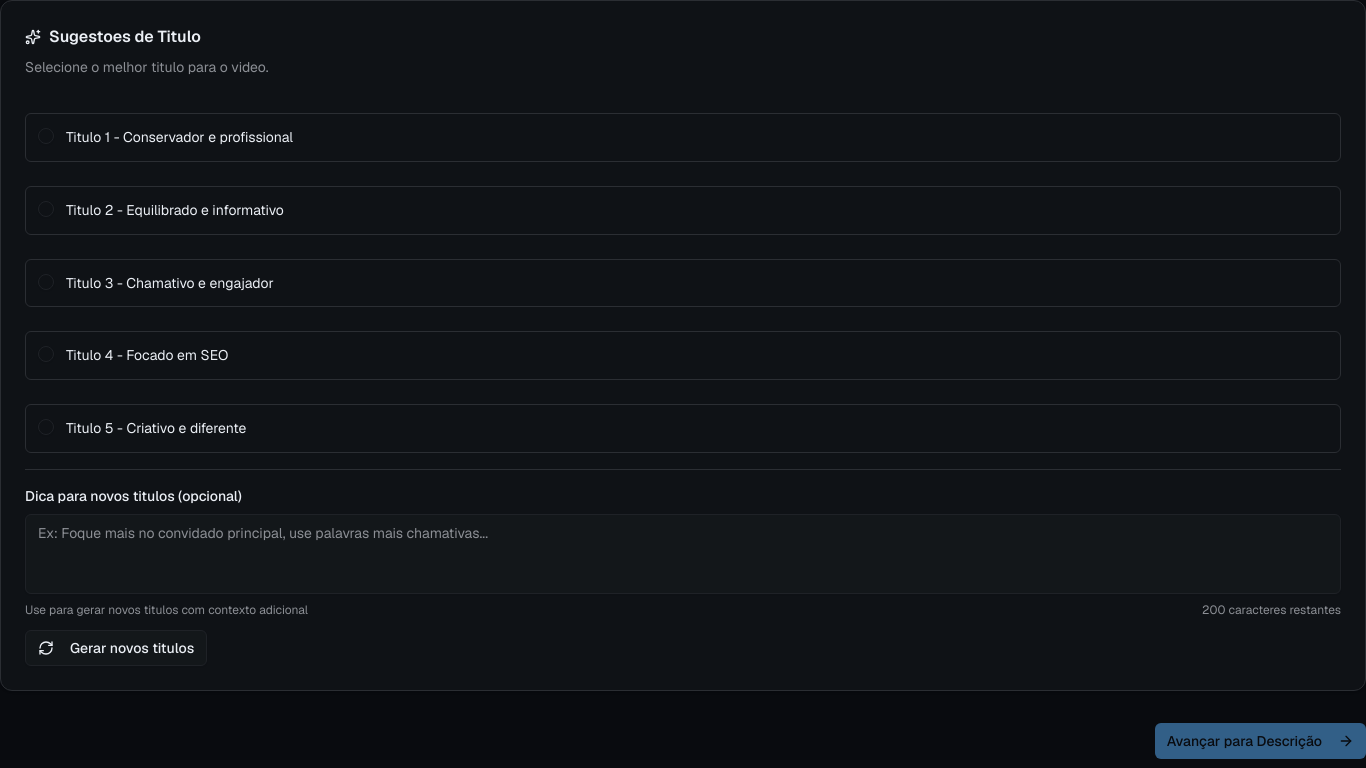
it: Phase5Title › Revalidation › shows additional context in confirmation dialog
# Enter additional context
Replace the text in the text box with placeholder "Foque mais no convidado principal" with "Minha dica especial" at (683, 554), box [25, 514, 1341, 594]
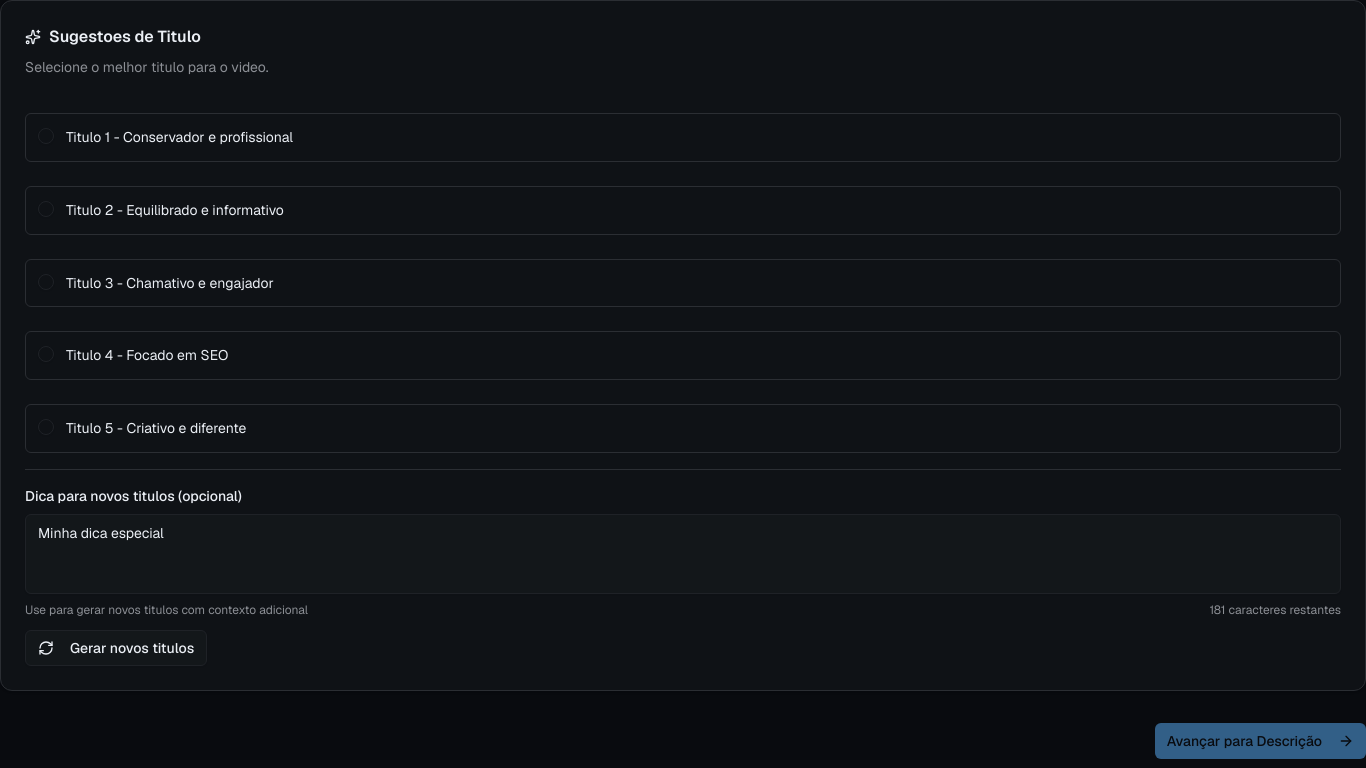
# Click revalidate
Click the button "Gerar novos titulos" at (116, 648), box [25, 630, 207, 666]
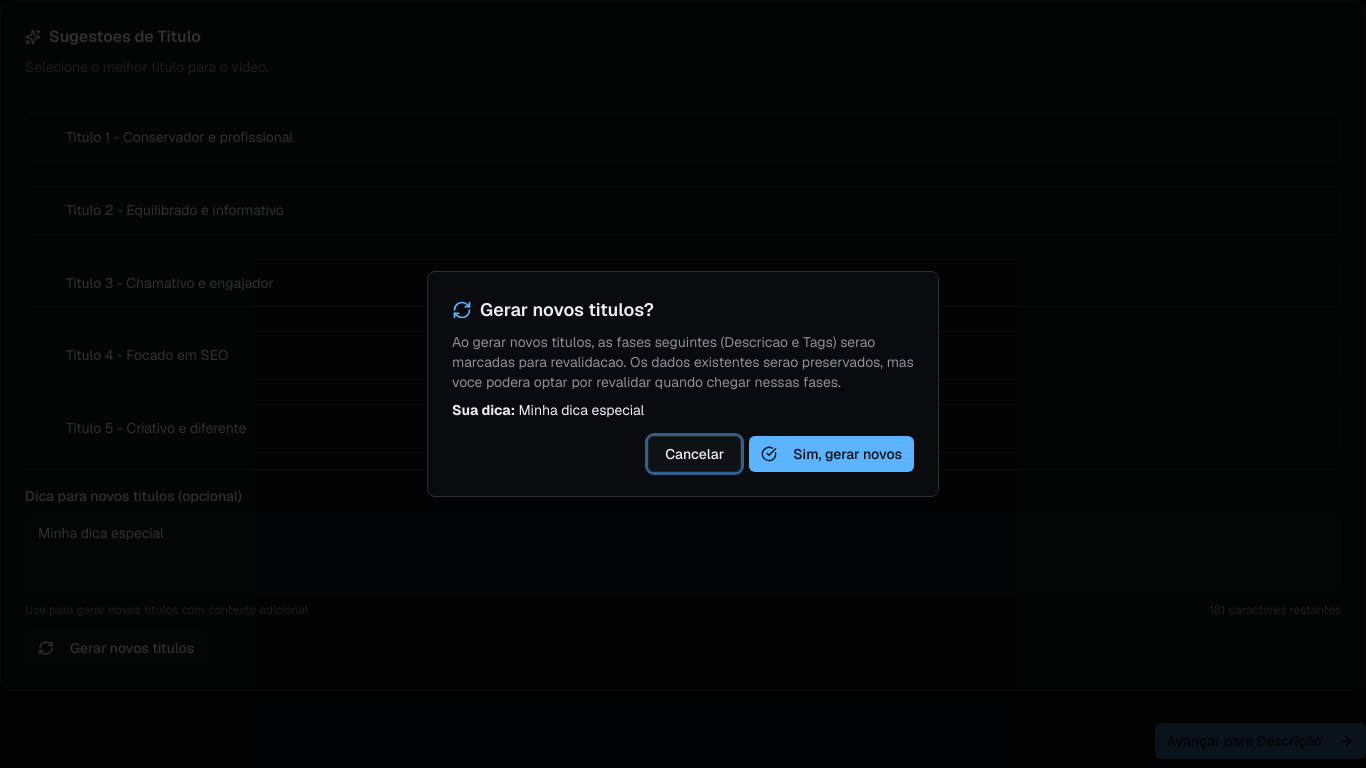
Expected: the text "Sua dica:" is shown, [452, 401, 515, 419]
